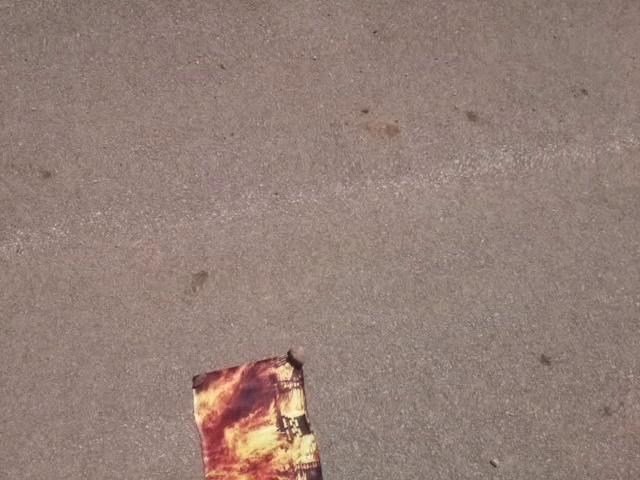fire-poster: (188, 346, 326, 479)
